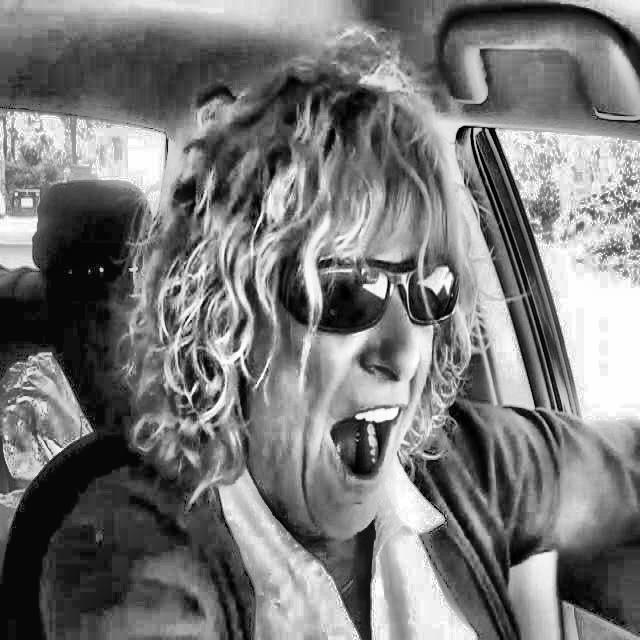open_mouth: (303, 387, 429, 507)
